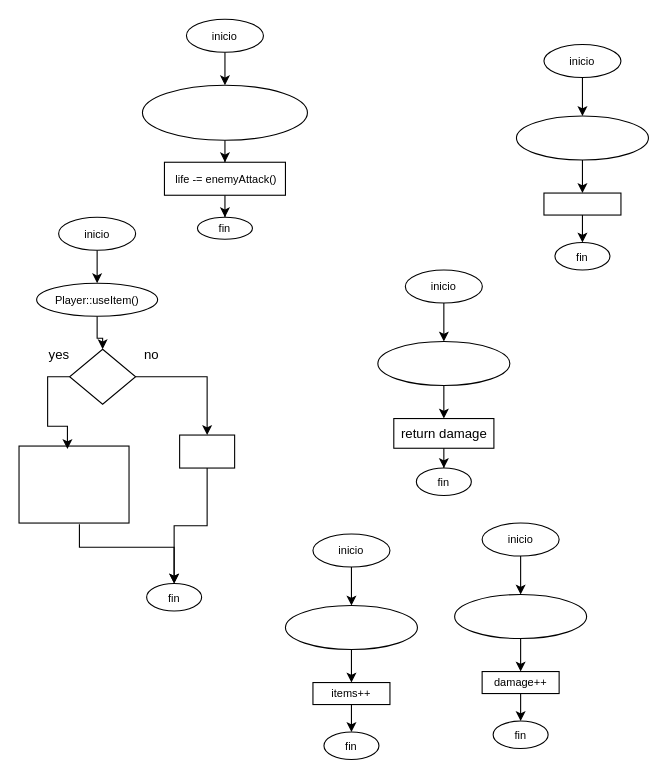
This 669x779 diagram has some shape labels left out. Here are the shapes that lost their labels. From the top down, the centre of each, then its label:
At point 224,112: "Player::getDamage(const enemy)".
At point 581,137: "Player::alive()".
At point 582,203: "return life > 0".
At point 102,376: "items != 0".
At point 443,363: "Player::attack()".
At point 207,451: "playerTxt()".
At point 73,484: "life++; if (life > lifeMax) life = lifeMax; items--;".
At point 350,627: "Player::addItems()".
At point 520,616: "Player::increaseAttack()".
